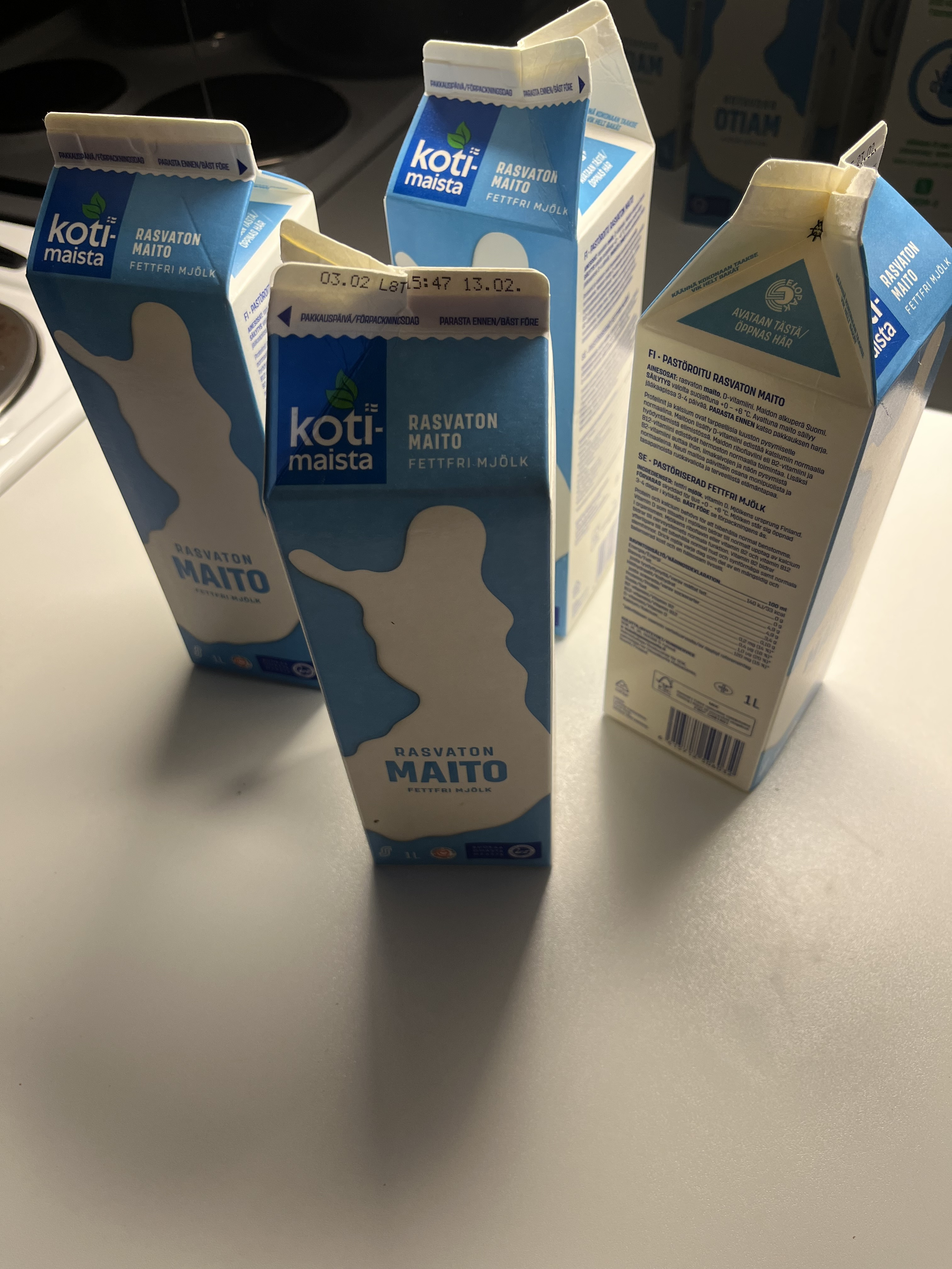Dryckeskartong: (606, 121, 952, 790), (267, 221, 554, 871), (24, 115, 346, 691), (379, 4, 642, 620)
